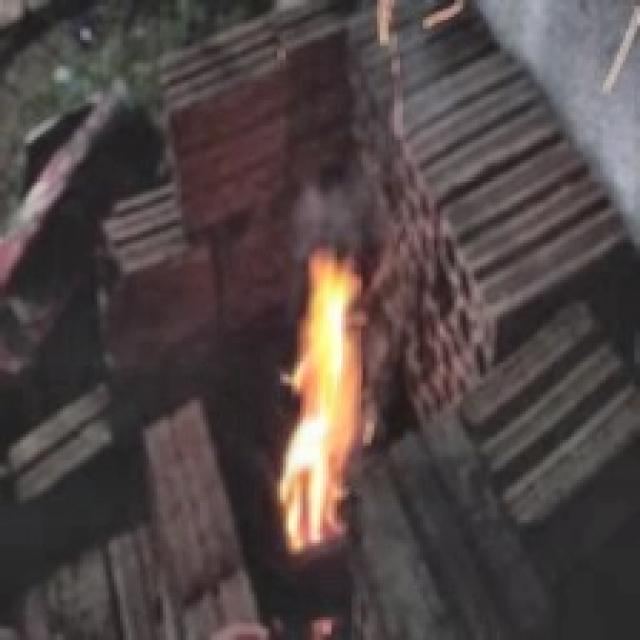fire: (253, 230, 396, 587)
